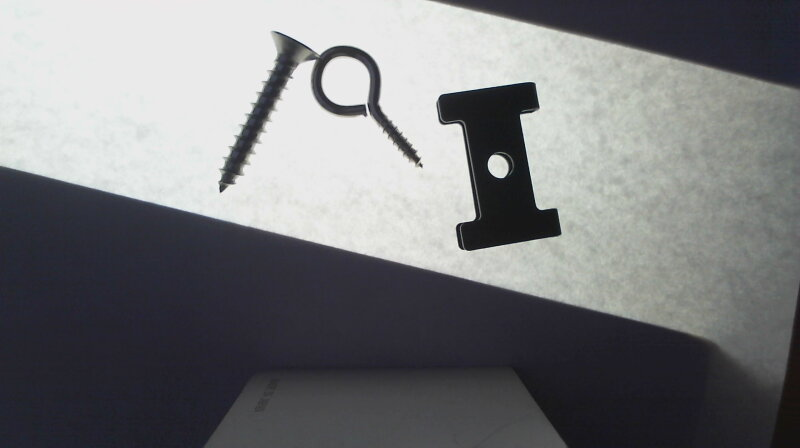O001: (311, 41, 428, 172)
O002: (434, 78, 564, 252)
S001: (215, 29, 317, 195)
